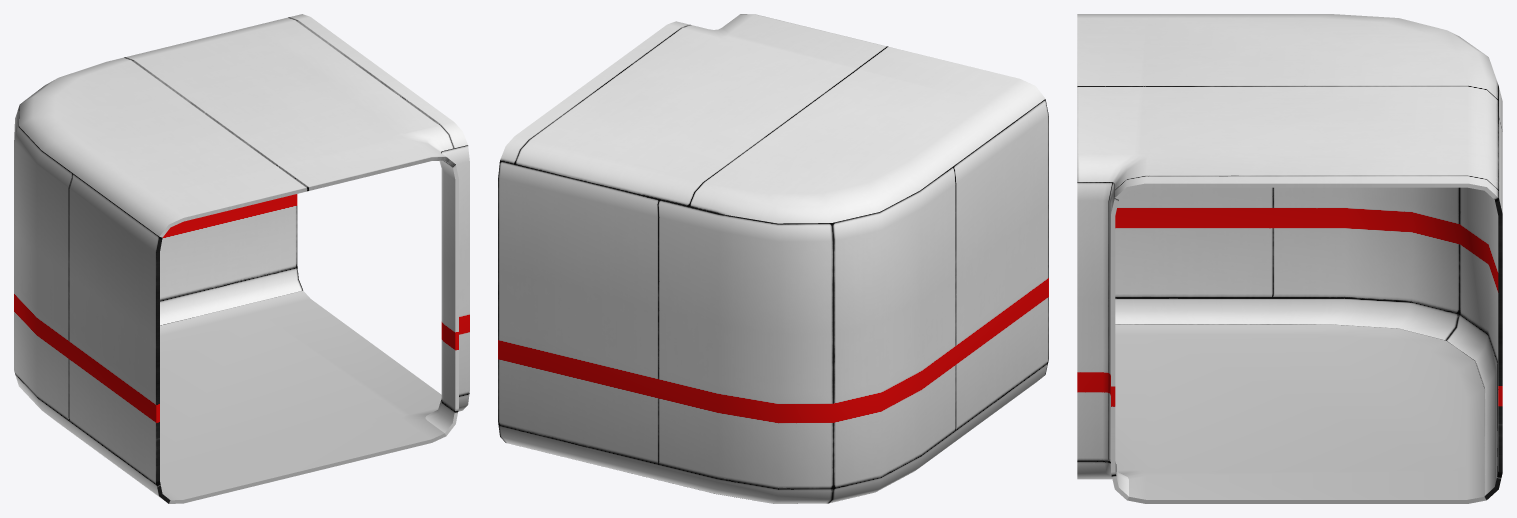
The model's file is Geo_Hallway_LCorner.FBX.
3 renders of one model, left to right at view 1: azimuth 30°, elevation 25°; view 2: azimuth 150°, elevation 25°; view 3: azimuth 270°, elevation 25°, orthographic. The views are drawn at different scales.
Parts seen in each view (by area): view 1: HallWay_Corner_001; view 2: HallWay_Corner_001; view 3: HallWay_Corner_001.
Boxes of the visible parts, bbox=[...] form: HallWay_Corner_001: bbox=[14, 14, 469, 503]; HallWay_Corner_001: bbox=[498, 14, 1048, 503]; HallWay_Corner_001: bbox=[1077, 14, 1502, 503].
Size of the model in its own units: 2.78 by 2.31 by 2.78.
